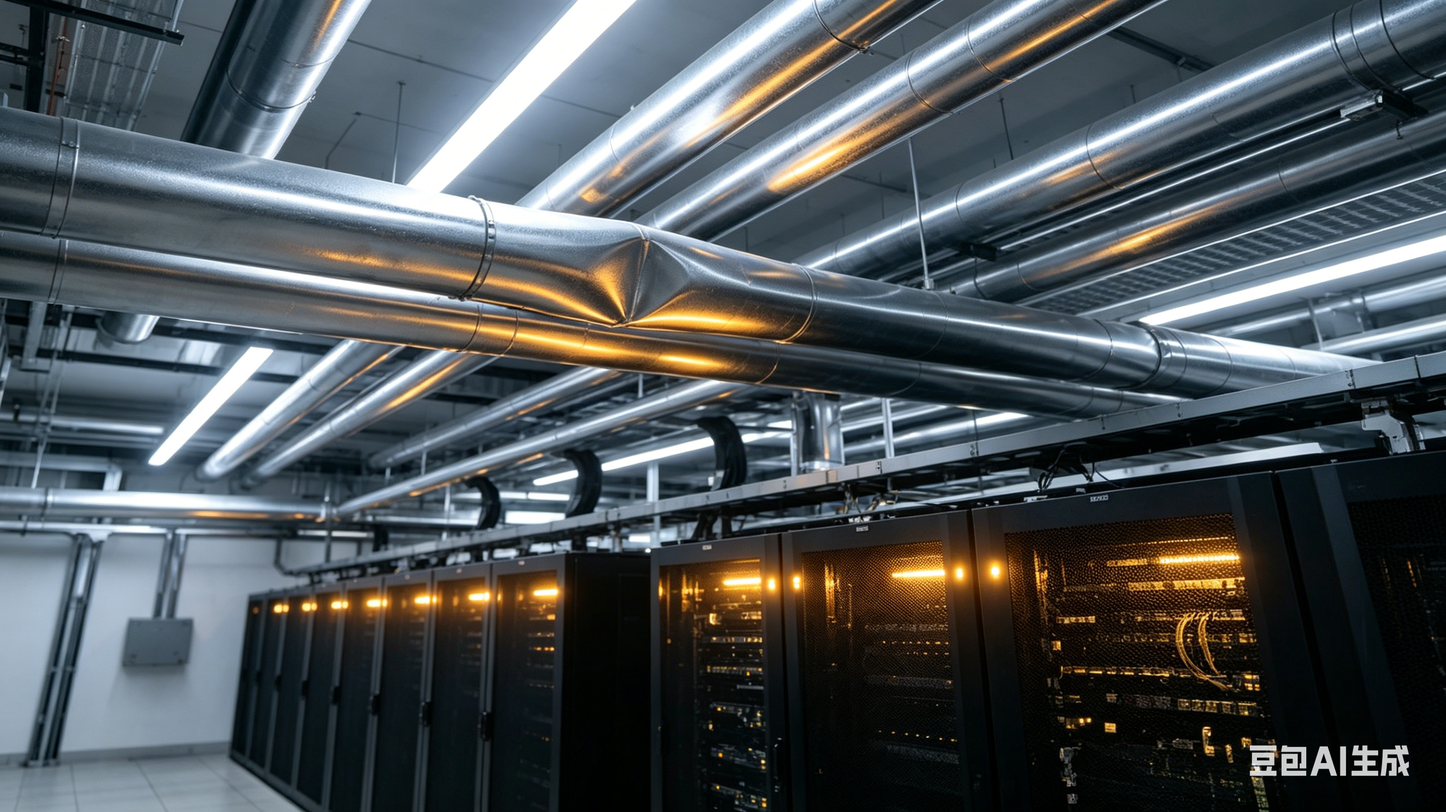Leakage: (571, 223, 696, 333)
